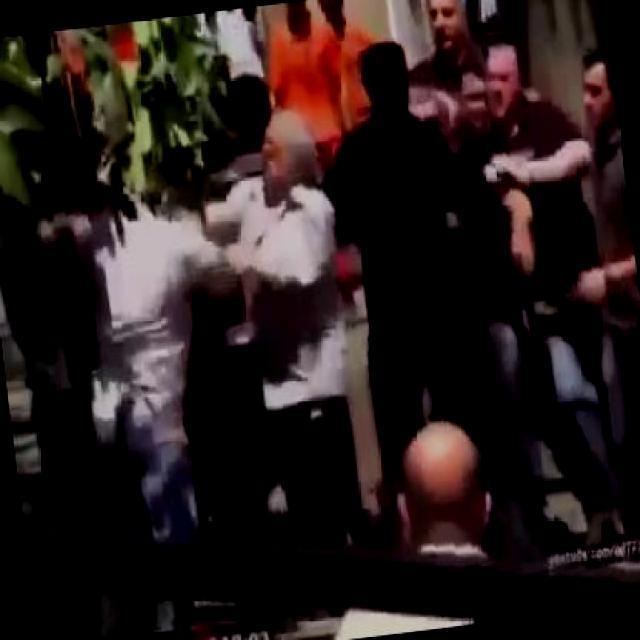fight: (33, 112, 356, 426), (430, 31, 598, 311)
